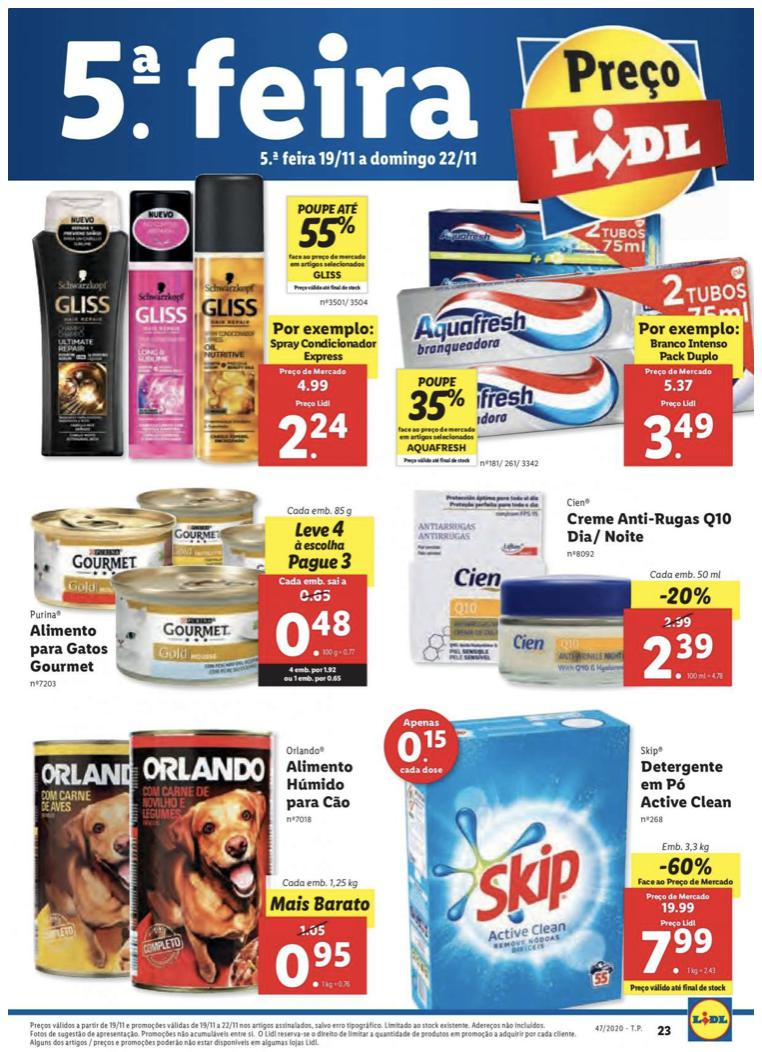name: (562, 510, 740, 547), (634, 758, 736, 814), (22, 621, 108, 677), (281, 754, 361, 810)
price: (268, 930, 351, 993), (274, 409, 357, 464), (632, 925, 716, 977), (635, 409, 716, 461), (277, 612, 355, 660), (642, 630, 713, 682)
product: (386, 696, 751, 1008), (21, 170, 387, 478), (17, 705, 381, 1006), (397, 184, 745, 479), (17, 482, 381, 705), (383, 479, 745, 695)
promotion: (403, 387, 468, 427), (297, 218, 357, 253), (655, 584, 718, 609), (653, 857, 716, 878)
